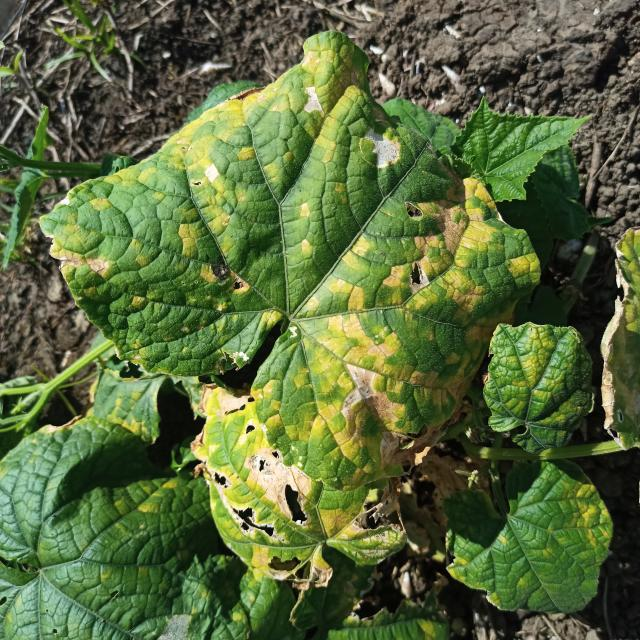disease_cucumber: (49, 30, 517, 581)
